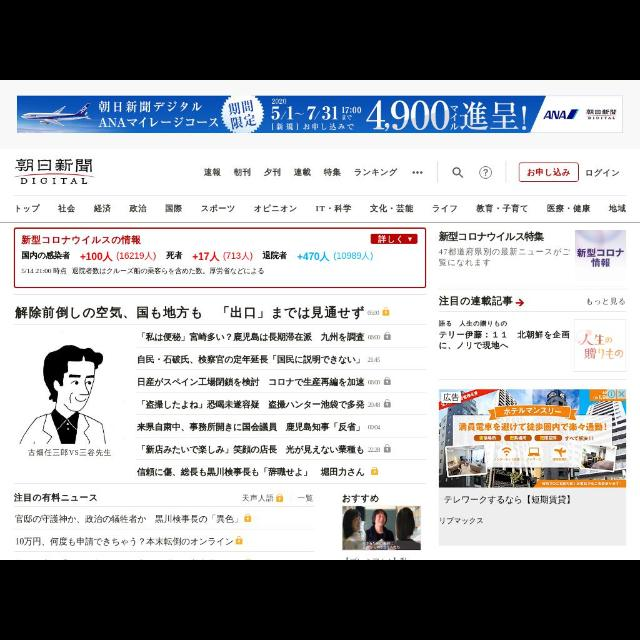icon: (479, 166, 493, 180), (452, 167, 464, 179), (384, 444, 392, 454), (371, 466, 379, 476), (383, 398, 391, 408), (384, 376, 392, 386), (235, 535, 243, 545), (516, 298, 524, 308), (412, 170, 424, 176), (276, 493, 284, 502), (382, 307, 390, 315), (244, 514, 252, 522), (384, 332, 391, 341), (408, 237, 412, 241)
iframe: (439, 390, 627, 546), (17, 95, 623, 133)
image: (18, 344, 108, 446), (342, 506, 422, 550), (574, 320, 626, 372), (575, 230, 627, 278), (13, 158, 96, 186)
multitab: (1, 195, 640, 223)
spinner: (371, 234, 417, 244)
text: (13, 305, 365, 321), (137, 354, 361, 366), (141, 398, 365, 410), (141, 444, 365, 456), (438, 248, 572, 268), (439, 330, 571, 350), (137, 377, 366, 388), (137, 467, 366, 478), (19, 266, 264, 276), (140, 332, 366, 342), (137, 422, 361, 432), (14, 514, 238, 524), (16, 536, 234, 546), (21, 234, 142, 246), (438, 230, 546, 243), (439, 295, 513, 307), (12, 493, 98, 503), (28, 449, 112, 457), (438, 320, 508, 328), (475, 203, 529, 213), (22, 250, 72, 260), (370, 203, 414, 214), (117, 250, 157, 262), (334, 250, 374, 262), (546, 203, 592, 213), (354, 168, 398, 178), (527, 168, 571, 178), (254, 204, 298, 213), (82, 251, 115, 263), (298, 252, 330, 264), (587, 296, 625, 306), (316, 204, 352, 214), (224, 250, 254, 262), (343, 494, 379, 504), (586, 168, 620, 178), (200, 205, 236, 213), (242, 493, 274, 502), (193, 252, 221, 262), (262, 251, 288, 261), (378, 234, 402, 243), (432, 204, 458, 212), (202, 168, 222, 178), (232, 168, 252, 178), (293, 168, 313, 178), (323, 168, 343, 178), (15, 204, 40, 212), (128, 204, 148, 214), (608, 204, 628, 214), (164, 203, 183, 213), (263, 167, 281, 177), (58, 204, 76, 214), (93, 203, 111, 213), (165, 251, 183, 261), (297, 493, 313, 502), (368, 308, 380, 316), (367, 357, 381, 363), (368, 424, 380, 431), (368, 334, 380, 340), (368, 379, 380, 385), (368, 402, 380, 408), (368, 447, 380, 453)
textbutton: (518, 163, 580, 183)
